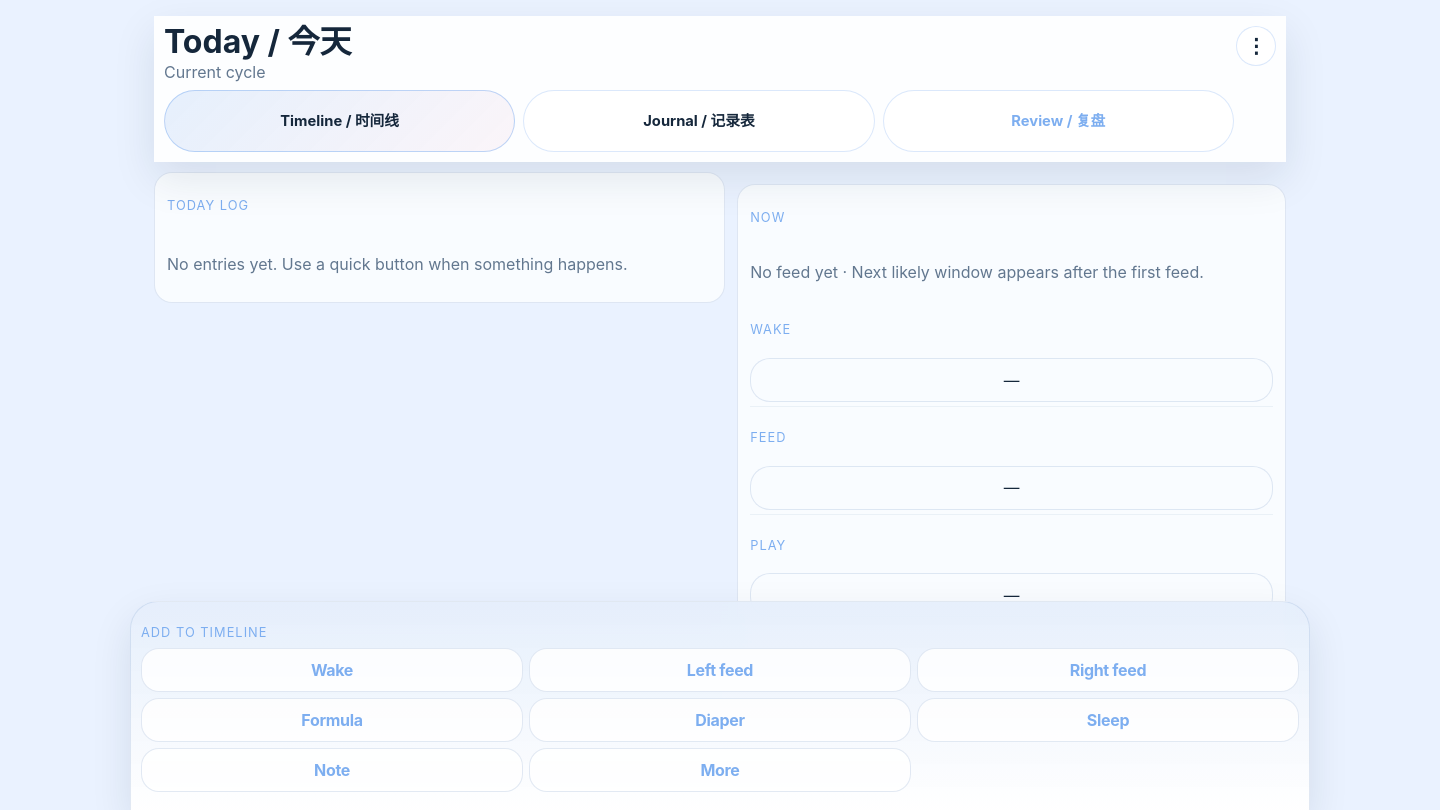
Scenario: TodayPage › renders cycle events newest-first from the API response
Click the button "More" at (720, 770), box [529, 748, 911, 792]
(page scrolled)
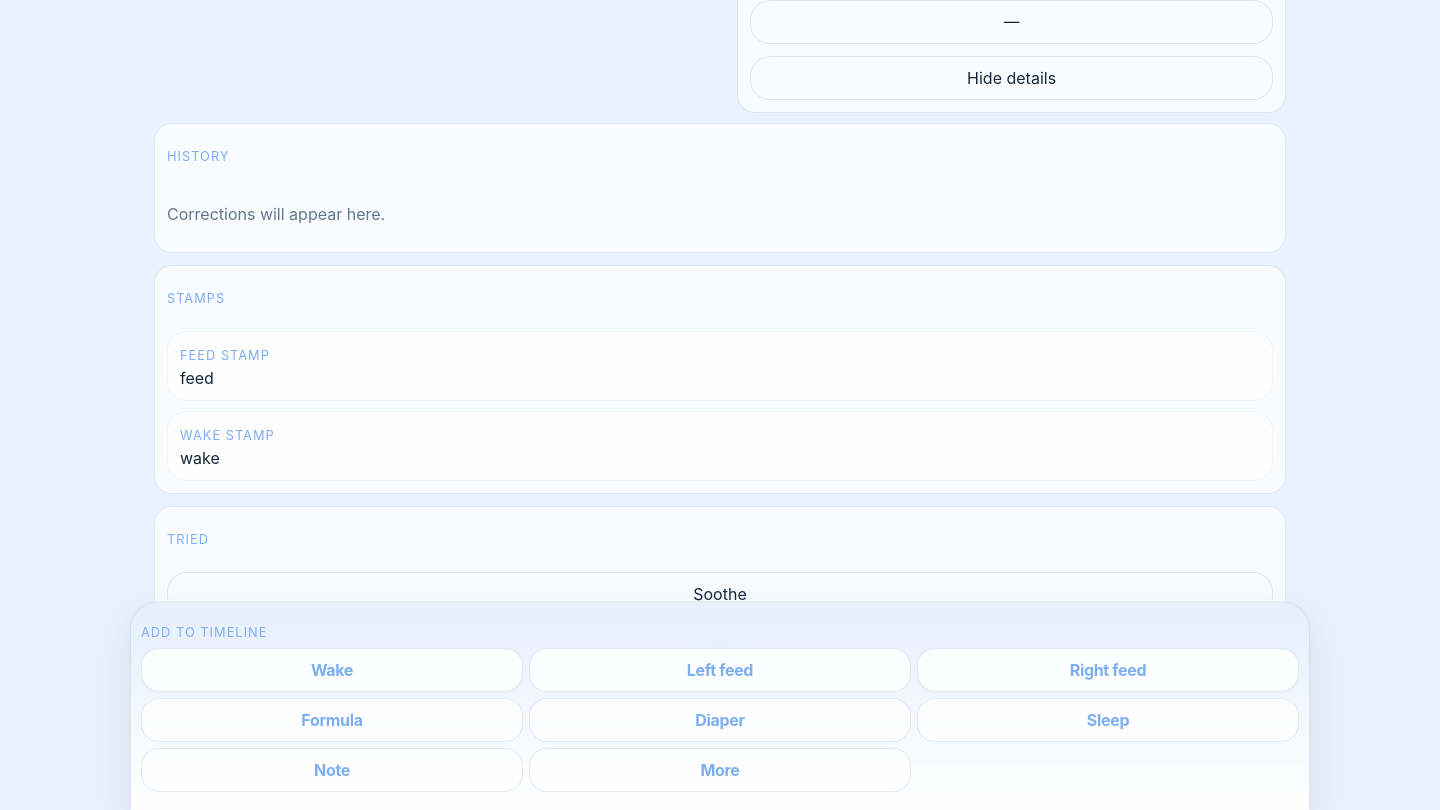
Expected: the list with test id "event-log-items" shows "Feed stamp", [180, 348, 270, 363]
Expected: the list with test id "event-log-items" shows "Wake stamp", [180, 428, 275, 443]
